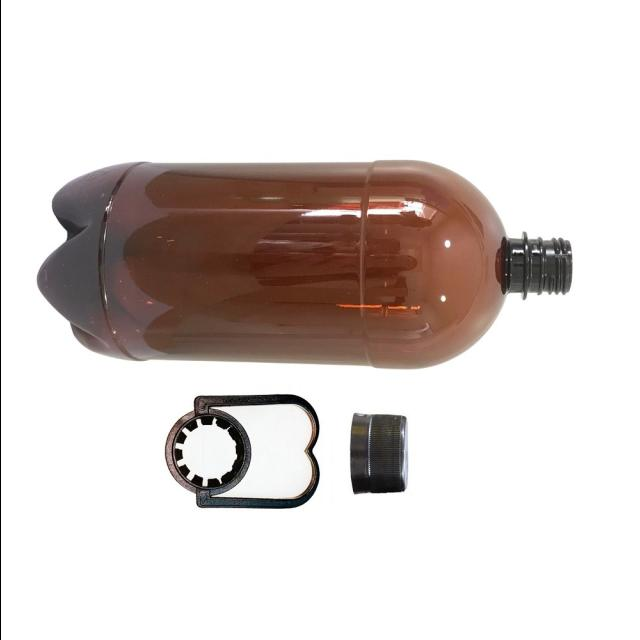bottom: (35, 162, 147, 375)
cap: (338, 406, 423, 520)
no_cap: (494, 216, 584, 324)
